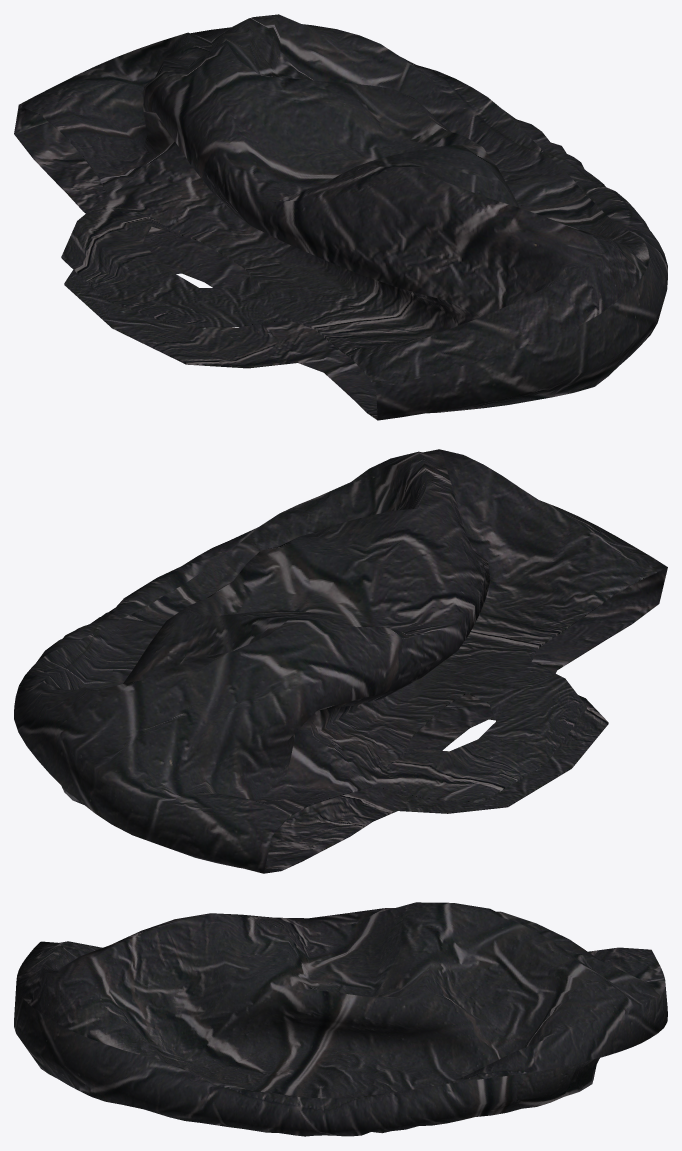
Rendered from plastic_bag.glb.
The picture shows the model from 3 angles, top to bottom: view 1: azimuth 30°, elevation 25°; view 2: azimuth 150°, elevation 25°; view 3: azimuth 270°, elevation 25°; orthographic projection. The views are drawn at different scales.
Visible parts, largest first — view 1: Plastic_Bag:pSphere3; view 2: Plastic_Bag:pSphere3; view 3: Plastic_Bag:pSphere3.
Part boxes in pixels (x1,y1,x2,y2): Plastic_Bag:pSphere3: [14, 14, 667, 420]; Plastic_Bag:pSphere3: [14, 449, 667, 873]; Plastic_Bag:pSphere3: [14, 902, 667, 1136].
Bounding box in the file's own units: 3.2 × 0.9755 × 4.6.
1 material, 1 textured.
